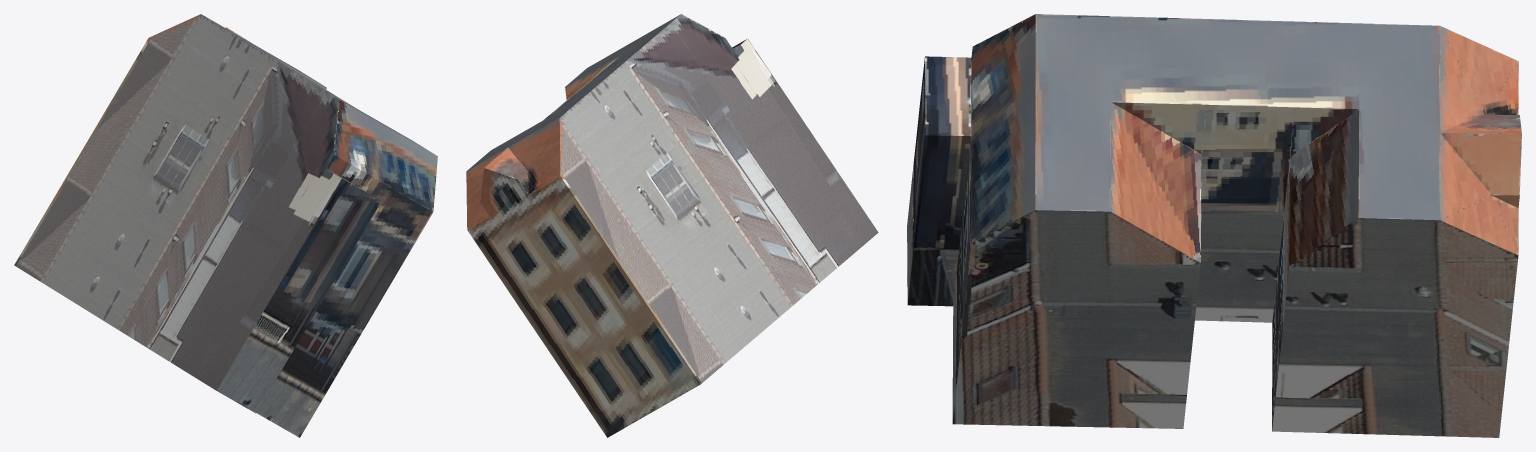
3 renders of one model, left to right at view 1: azimuth 30°, elevation 25°; view 2: azimuth 150°, elevation 25°; view 3: azimuth 270°, elevation 25°, orthographic. The views are drawn at different scales.
Parts seen in each view (by area): view 1: BAG_0599100000670765 (×5); view 2: BAG_0599100000670765 (×4); view 3: BAG_0599100000670765 (×5).
Part boxes in pixels (box(x1,y1,x2,y2)): BAG_0599100000670765 (×5): box(14, 14, 437, 437); BAG_0599100000670765 (×4): box(466, 14, 878, 437); BAG_0599100000670765 (×5): box(907, 14, 1521, 437).
Bounding box in the file's own units: 13.08 × 14.51 × 16.87.
1 material, 1 textured.
